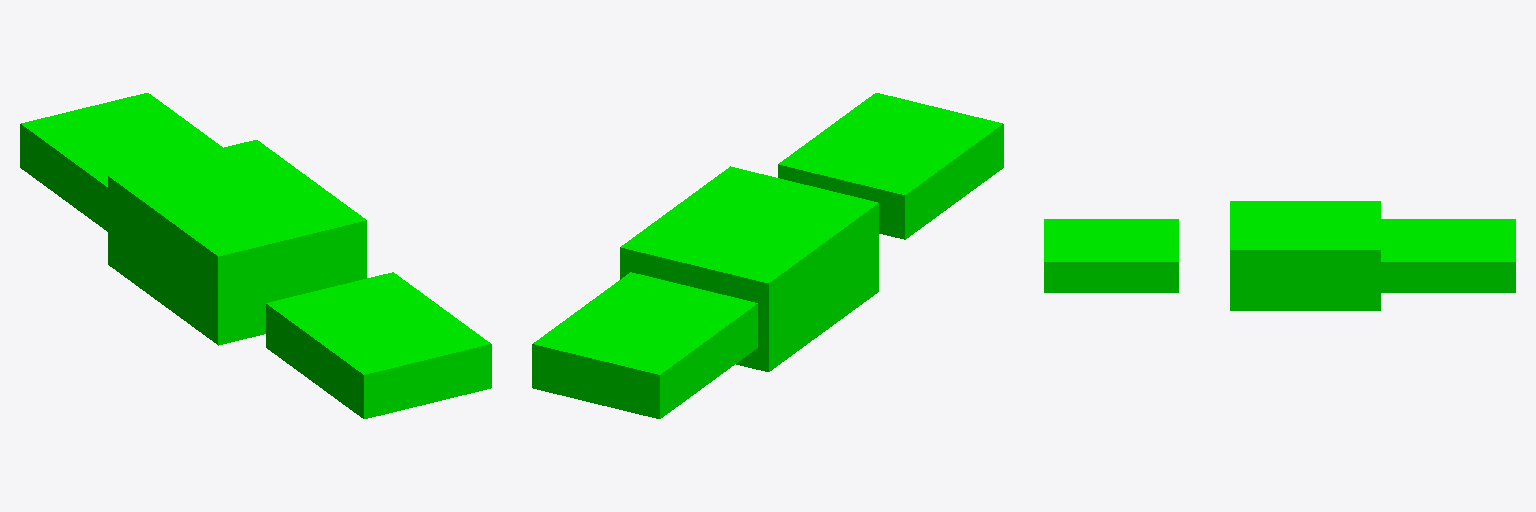
robot.urdf — robot:
<robot name = "robot">
    <link name="root">
        <inertial>
            <origin xyz="0.0 0.0 1.5" rpy="0 0 0"/>
            <mass value="1" />
            <inertia ixx="100" ixy="0" ixz="0" iyy="100" iyz="0" izz="100" />
        </inertial>
        <visual>
            <origin xyz="0.0 0.0 1.5" rpy="0 0 0"/>
            <geometry>
                <box size="0 0 0.0001" />
            </geometry>
            <material name="Green">
                <color rgba="0 1.0 0.0 1.0"/>
            </material>
        </visual>
        <collision>
            <origin xyz="0.0 0.0 1.5" rpy="0 0 0"/>
            <geometry>
                <box size="0 0 0.0001" />
            </geometry>
        </collision>
    </link>
    <joint name="root_000" type="revolute">
       <parent link="root"/>
       <child  link="000"/>
       <origin rpy="0 0 0" xyz="0.0 0.0 1.5" />
     <axis xyz="1 0 0"/>
       <limit effort="0.0" lower="-3.14159" upper="3.14159" velocity="0.0"/>
    </joint>
    <link name="000">
        <inertial>
            <origin xyz="0.0 0.15 0.0" rpy="0 0 0"/>
            <mass value="1" />
            <inertia ixx="100" ixy="0" ixz="0" iyy="100" iyz="0" izz="100" />
        </inertial>
        <visual>
            <origin xyz="0.0 0.15 0.0" rpy="0 0 0"/>
            <geometry>
                <box size="0.7 0.3 0.4" />
            </geometry>
            <material name="Green">
                <color rgba="0 1.0 0.0 1.0"/>
            </material>
        </visual>
        <collision>
            <origin xyz="0.0 0.15 0.0" rpy="0 0 0"/>
            <geometry>
                <box size="0.7 0.3 0.4" />
            </geometry>
        </collision>
    </link>
    <joint name="000_010" type="revolute">
       <parent link="000"/>
       <child  link="010"/>
       <origin rpy="0 0 0" xyz="0.0 0.3 -0.0" />
     <axis xyz="0 1 0"/>
       <limit effort="0.0" lower="-3.14159" upper="3.14159" velocity="0.0"/>
    </joint>
    <link name="010">
        <inertial>
            <origin xyz="0.0 0.15 -0.0" rpy="0 0 0"/>
            <mass value="1" />
            <inertia ixx="100" ixy="0" ixz="0" iyy="100" iyz="0" izz="100" />
        </inertial>
        <visual>
            <origin xyz="0.0 0.15 -0.0" rpy="0 0 0"/>
            <geometry>
                <box size="0.7 0.3 0.4" />
            </geometry>
            <material name="Green">
                <color rgba="0 1.0 0.0 1.0"/>
            </material>
        </visual>
        <collision>
            <origin xyz="0.0 0.15 -0.0" rpy="0 0 0"/>
            <geometry>
                <box size="0.7 0.3 0.4" />
            </geometry>
        </collision>
    </link>
    <joint name="010_020" type="revolute">
       <parent link="010"/>
       <child  link="020"/>
       <origin rpy="0 0 0" xyz="0.0 0.3 -0.0" />
     <axis xyz="0 1 0"/>
       <limit effort="0.0" lower="-3.14159" upper="3.14159" velocity="0.0"/>
    </joint>
    <link name="020">
        <inertial>
            <origin xyz="0.0 0.15 -0.0" rpy="0 0 0"/>
            <mass value="1" />
            <inertia ixx="100" ixy="0" ixz="0" iyy="100" iyz="0" izz="100" />
        </inertial>
        <visual>
            <origin xyz="0.0 0.15 -0.0" rpy="0 0 0"/>
            <geometry>
                <box size="0.7 0.3 0.4" />
            </geometry>
            <material name="Green">
                <color rgba="0 1.0 0.0 1.0"/>
            </material>
        </visual>
        <collision>
            <origin xyz="0.0 0.15 -0.0" rpy="0 0 0"/>
            <geometry>
                <box size="0.7 0.3 0.4" />
            </geometry>
        </collision>
    </link>
    <joint name="020_020-100" type="revolute">
       <parent link="020"/>
       <child  link="020-100"/>
       <origin rpy="0 0 0" xyz="0.0 0.3 -0.0" />
     <axis xyz="0 1 0"/>
       <limit effort="0.0" lower="-3.14159" upper="3.14159" velocity="0.0"/>
    </joint>
    <link name="020-100">
        <inertial>
            <origin xyz="0.0 0.2 -0.0" rpy="0 0 0"/>
            <mass value="1" />
            <inertia ixx="100" ixy="0" ixz="0" iyy="100" iyz="0" izz="100" />
        </inertial>
        <visual>
            <origin xyz="0.0 0.2 -0.0" rpy="0 0 0"/>
            <geometry>
                <box size="0.6 0.4 0.2" />
            </geometry>
            <material name="Green">
                <color rgba="0 1.0 0.0 1.0"/>
            </material>
        </visual>
        <collision>
            <origin xyz="0.0 0.2 -0.0" rpy="0 0 0"/>
            <geometry>
                <box size="0.6 0.4 0.2" />
            </geometry>
        </collision>
    </link>
    <joint name="020-100_020-110" type="revolute">
       <parent link="020-100"/>
       <child  link="020-110"/>
       <origin rpy="0 0 0" xyz="0.0 0.4 -0.0" />
     <axis xyz="0 1 0"/>
       <limit effort="0.0" lower="-3.14159" upper="3.14159" velocity="0.0"/>
    </joint>
    <link name="020-110">
        <inertial>
            <origin xyz="0.0 0.2 -0.0" rpy="0 0 0"/>
            <mass value="1" />
            <inertia ixx="100" ixy="0" ixz="0" iyy="100" iyz="0" izz="100" />
        </inertial>
        <visual>
            <origin xyz="0.0 0.2 -0.0" rpy="0 0 0"/>
            <geometry>
                <box size="0.6 0.4 0.2" />
            </geometry>
            <material name="Green">
                <color rgba="0 1.0 0.0 1.0"/>
            </material>
        </visual>
        <collision>
            <origin xyz="0.0 0.2 -0.0" rpy="0 0 0"/>
            <geometry>
                <box size="0.6 0.4 0.2" />
            </geometry>
        </collision>
    </link>
    <joint name="000_000-101" type="revolute">
       <parent link="000"/>
       <child  link="000-101"/>
       <origin rpy="0 0 0" xyz="0.0 -0.3 -0.0" />
     <axis xyz="0 1 0"/>
       <limit effort="0.0" lower="-3.14159" upper="3.14159" velocity="0.0"/>
    </joint>
    <link name="000-101">
        <inertial>
            <origin xyz="0.0 -0.2 -0.0" rpy="0 0 0"/>
            <mass value="1" />
            <inertia ixx="100" ixy="0" ixz="0" iyy="100" iyz="0" izz="100" />
        </inertial>
        <visual>
            <origin xyz="0.0 -0.2 -0.0" rpy="0 0 0"/>
            <geometry>
                <box size="0.6 0.4 0.2" />
            </geometry>
            <material name="Green">
                <color rgba="0 1.0 0.0 1.0"/>
            </material>
        </visual>
        <collision>
            <origin xyz="0.0 -0.2 -0.0" rpy="0 0 0"/>
            <geometry>
                <box size="0.6 0.4 0.2" />
            </geometry>
        </collision>
    </link>
    <joint name="000-101_000-111" type="revolute">
       <parent link="000-101"/>
       <child  link="000-111"/>
       <origin rpy="0 0 0" xyz="0.0 -0.4 -0.0" />
     <axis xyz="0 1 0"/>
       <limit effort="0.0" lower="-3.14159" upper="3.14159" velocity="0.0"/>
    </joint>
    <link name="000-111">
        <inertial>
            <origin xyz="0.0 -0.2 -0.0" rpy="0 0 0"/>
            <mass value="1" />
            <inertia ixx="100" ixy="0" ixz="0" iyy="100" iyz="0" izz="100" />
        </inertial>
        <visual>
            <origin xyz="0.0 -0.2 -0.0" rpy="0 0 0"/>
            <geometry>
                <box size="0.6 0.4 0.2" />
            </geometry>
            <material name="Green">
                <color rgba="0 1.0 0.0 1.0"/>
            </material>
        </visual>
        <collision>
            <origin xyz="0.0 -0.2 -0.0" rpy="0 0 0"/>
            <geometry>
                <box size="0.6 0.4 0.2" />
            </geometry>
        </collision>
    </link>
</robot>

--- Facts derived from the render (not from the file) ---
Views: 3 orthographic renders of the robot side by side, from view 1: azimuth 30°, elevation 25°; view 2: azimuth 150°, elevation 25°; view 3: azimuth 270°, elevation 25°.
Model robot with 8 links and 7 joints (7 revolute), rooted at root, posed all joints at 0.
Links seen in each view (by area): view 1: 000, 000-111, 010, 020, 020-110, 000-101, 020-100; view 2: 020-110, 020, 000-101, 000, 010, 000-111, 020-100; view 3: 020, 000, 010, 020-110, 000-111, 020-100, 000-101.
Link boxes in pixels (box(x1,y1,x2,y2)): 000: box(182, 193, 366, 345); 000-111: box(315, 308, 491, 418); 010: box(145, 166, 329, 318); 020: box(108, 140, 292, 290); 020-110: box(20, 93, 196, 203); 000-101: box(266, 272, 441, 382); 020-100: box(70, 129, 222, 231); 020-110: box(532, 308, 708, 418); 020: box(620, 220, 805, 371); 000-101: box(778, 129, 953, 239); 000: box(694, 166, 878, 318); 010: box(658, 193, 841, 344); 000-111: box(827, 93, 1003, 203); 020-100: box(582, 272, 757, 382); 020: box(1330, 201, 1380, 310); 000: box(1230, 201, 1279, 310); 010: box(1280, 201, 1329, 310); 020-110: box(1448, 219, 1515, 292); 000-111: box(1044, 219, 1111, 292); 020-100: box(1381, 219, 1447, 292); 000-101: box(1112, 219, 1178, 292).
Size in the robot's own frame: 0.7 by 2.8 by 0.4 metres.
Geometry: primitives only (box / cylinder / sphere), no mesh files.
